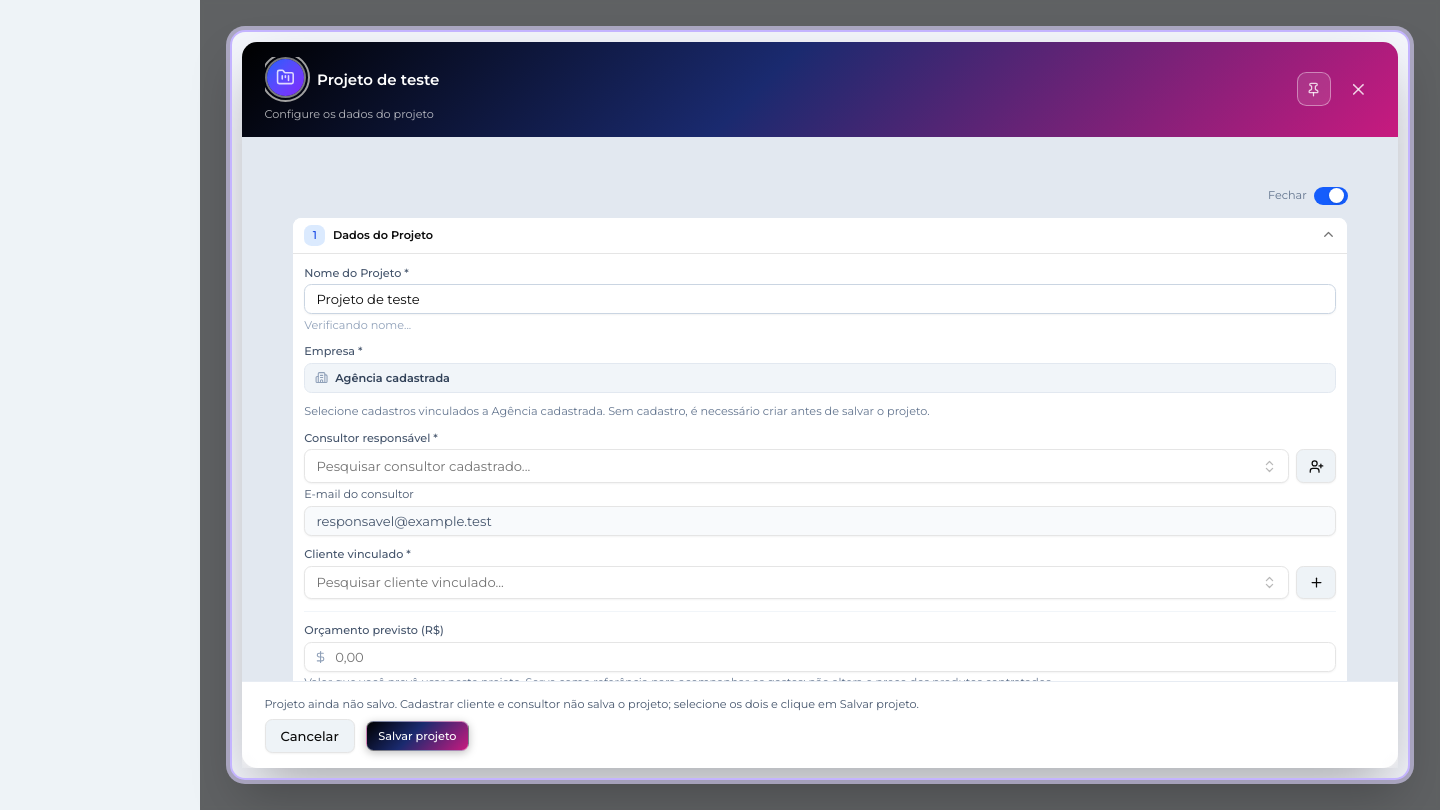
Test: Formulário REAL de projeto dentro do checkout › erro real de nome duplicado fica visível no rodapé e mantém o preenchimento
Step 1. Click the button "Salvar projeto" → (417, 736), box x1=366 y1=721 x2=469 y2=751
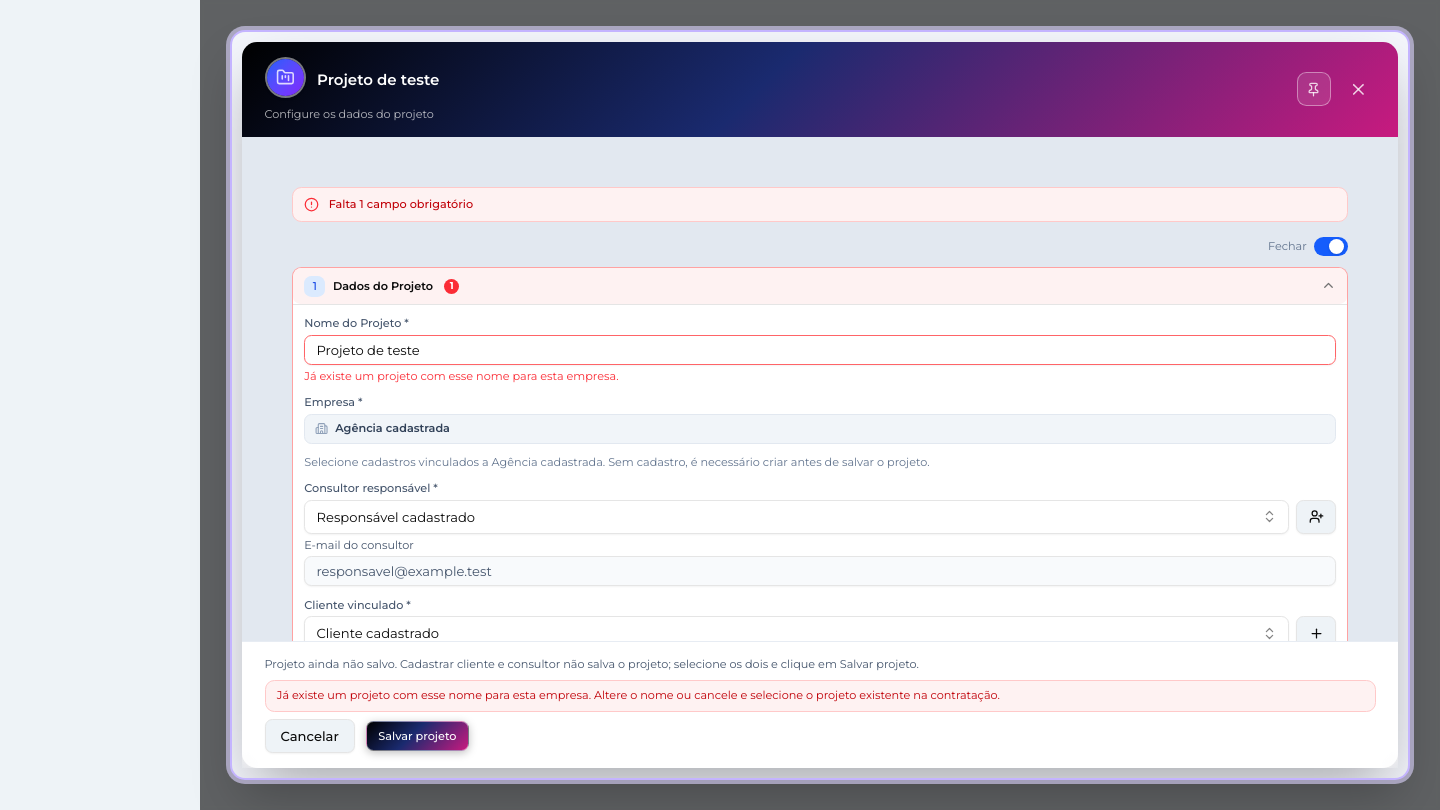
expect the field showing "Projeto de teste" is shown: met, box x1=304 y1=335 x2=1336 y2=365
expect the text "Altere o nome ou cancele e selecione" is shown: met, box x1=277 y1=688 x2=1000 y2=702
